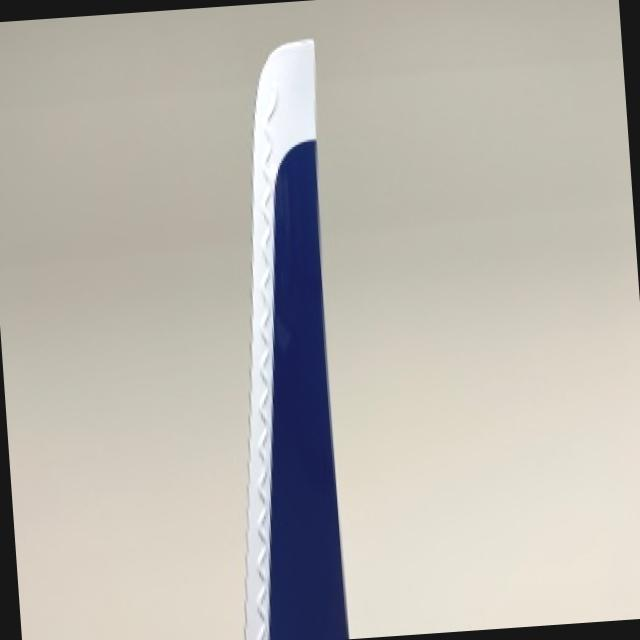healthy: (242, 36, 346, 640)
